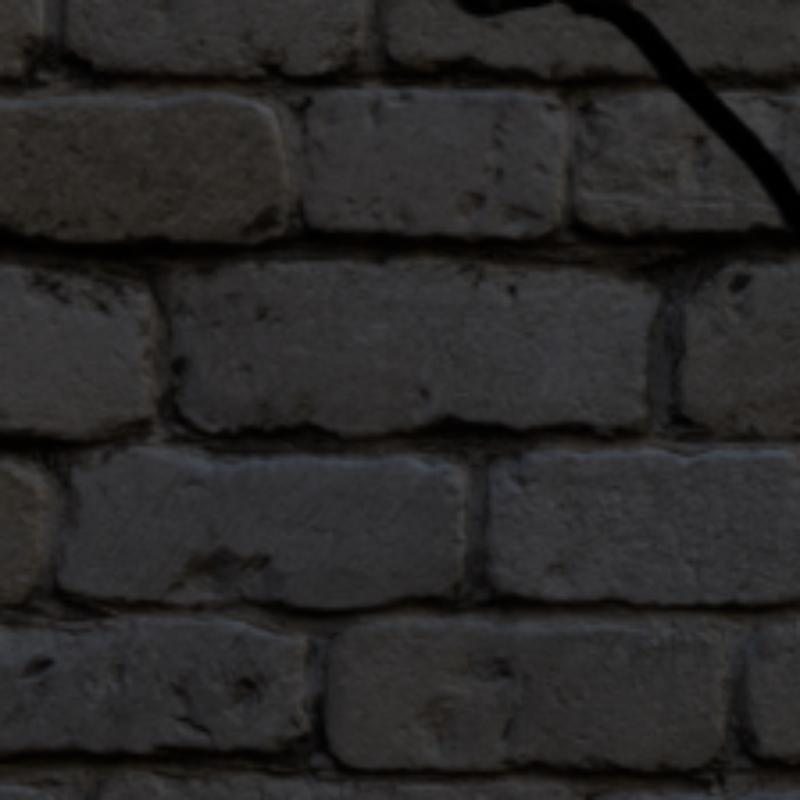crack: (561, 0, 796, 243)
